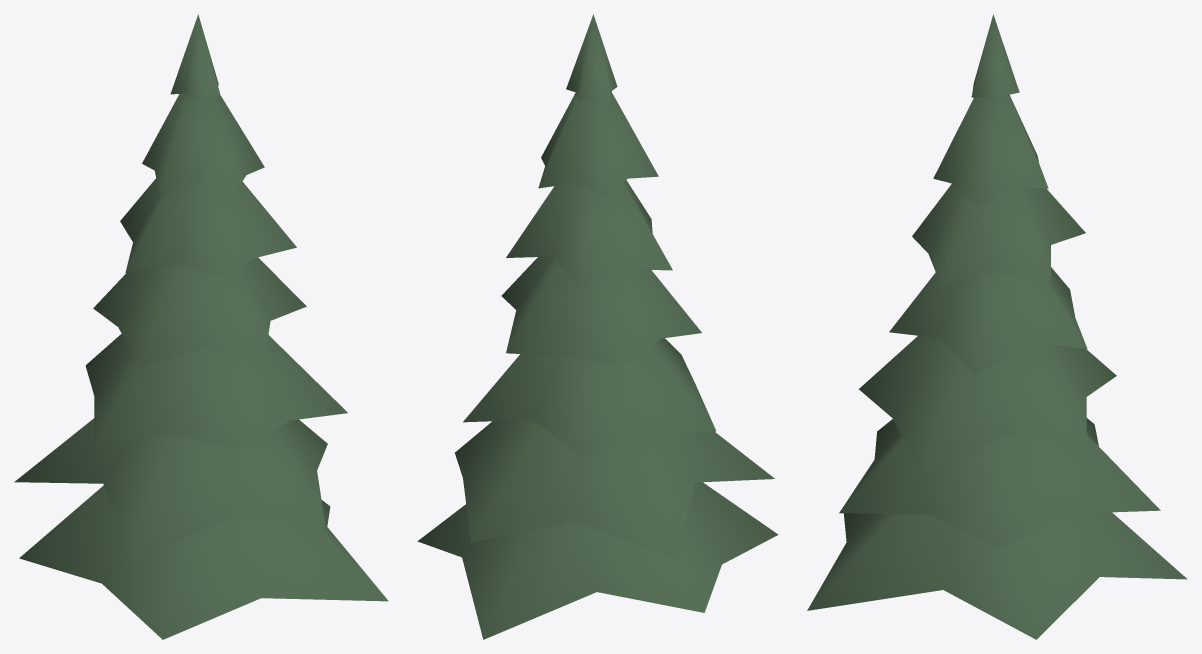
Rendered from ll_fir.gltf.
3 renders of one model, left to right at view 1: azimuth 30°, elevation 25°; view 2: azimuth 150°, elevation 25°; view 3: azimuth 270°, elevation 25°, orthographic.
Visible parts, largest first — view 1: fir; view 2: fir; view 3: fir.
Boxes of the visible parts, x1=… form: fir: x1=14, y1=14, x2=388, y2=639; fir: x1=417, y1=14, x2=778, y2=639; fir: x1=807, y1=14, x2=1187, y2=639.
Bounding box in the file's own units: 6.26 × 11.11 × 6.86.
